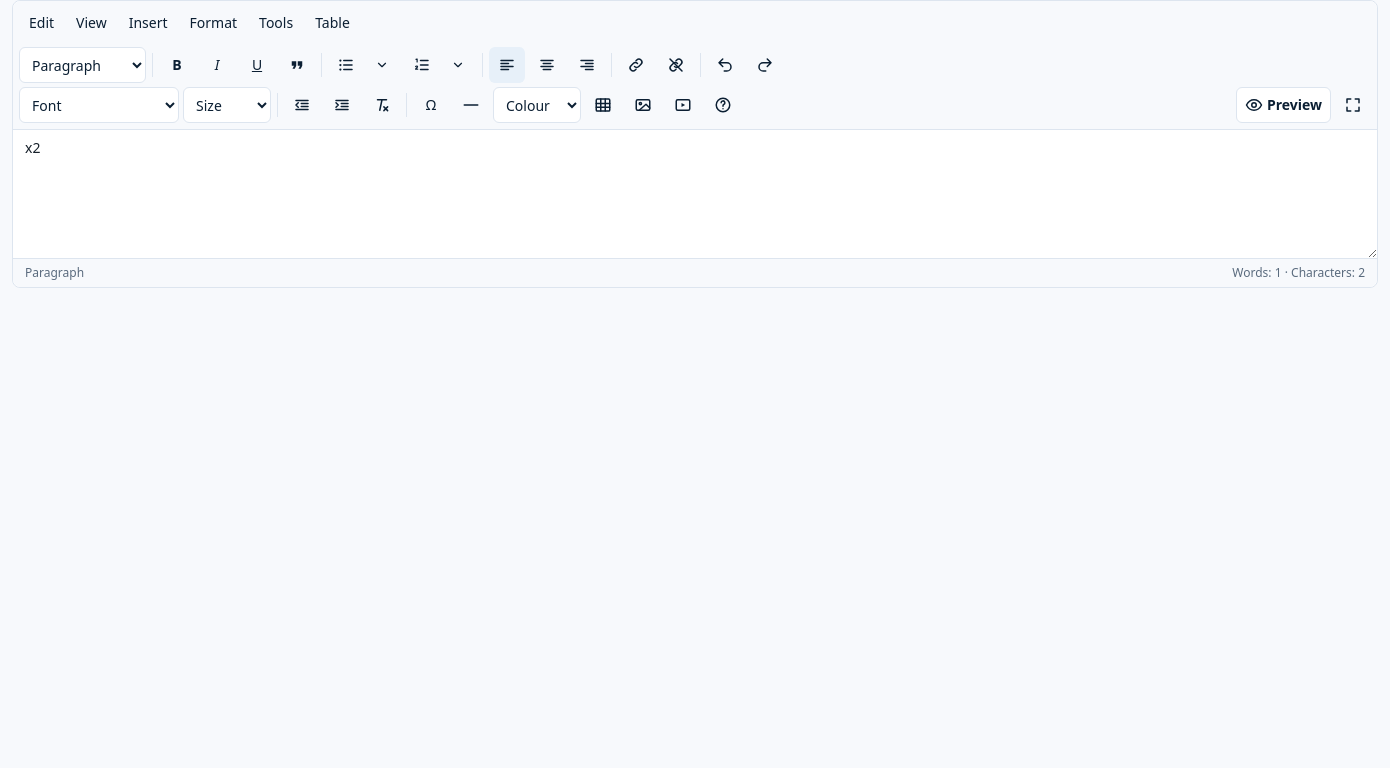
it: MarkdownTextarea inline formatting › offers strikethrough, superscript and subscript in the Format menu
The image size is (1390, 768).
Click the button "Format".
click(213, 23)  # box [180, 5, 247, 41]
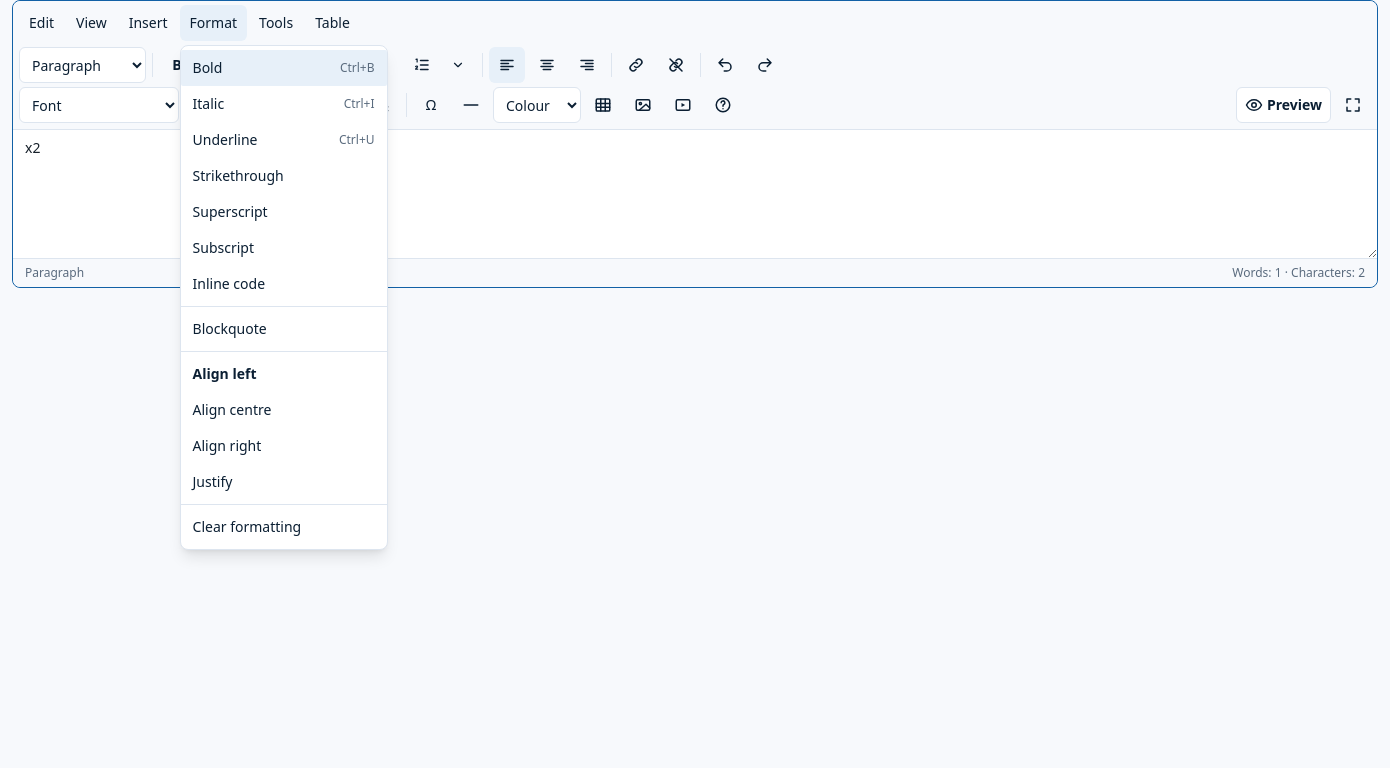
Click the menu item "Superscript".
click(284, 212)  # box [180, 194, 386, 230]
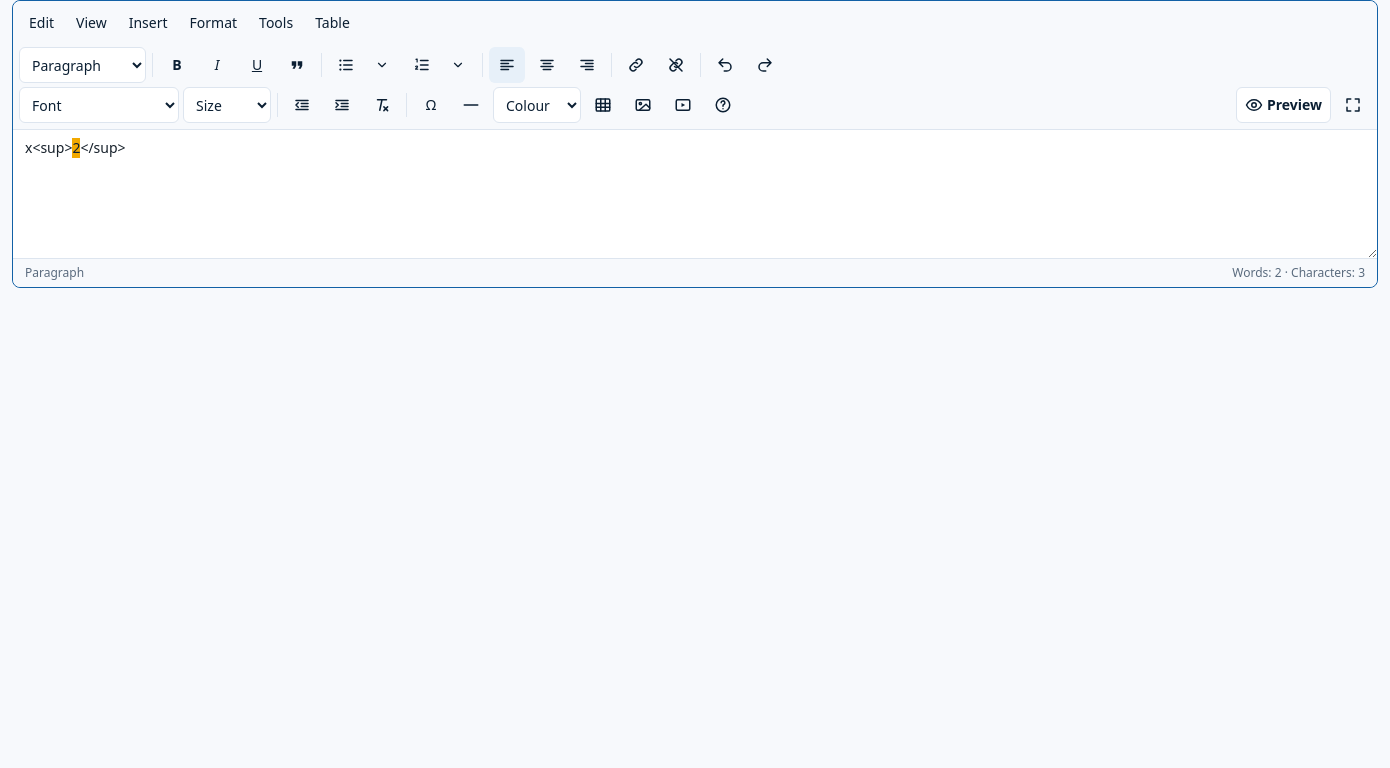
Expected: the text box named "Body" holds "x<sup>2</sup>", [13, 130, 1377, 258]
Expected: the menu is gone
